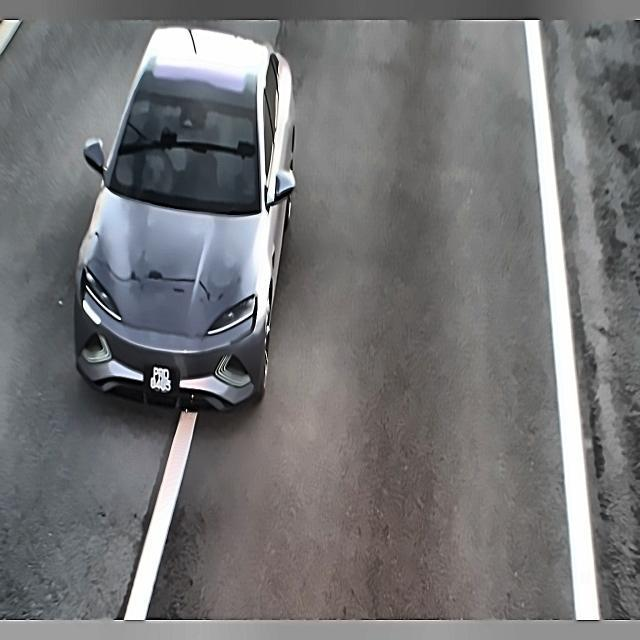car: (141, 345, 177, 413)
